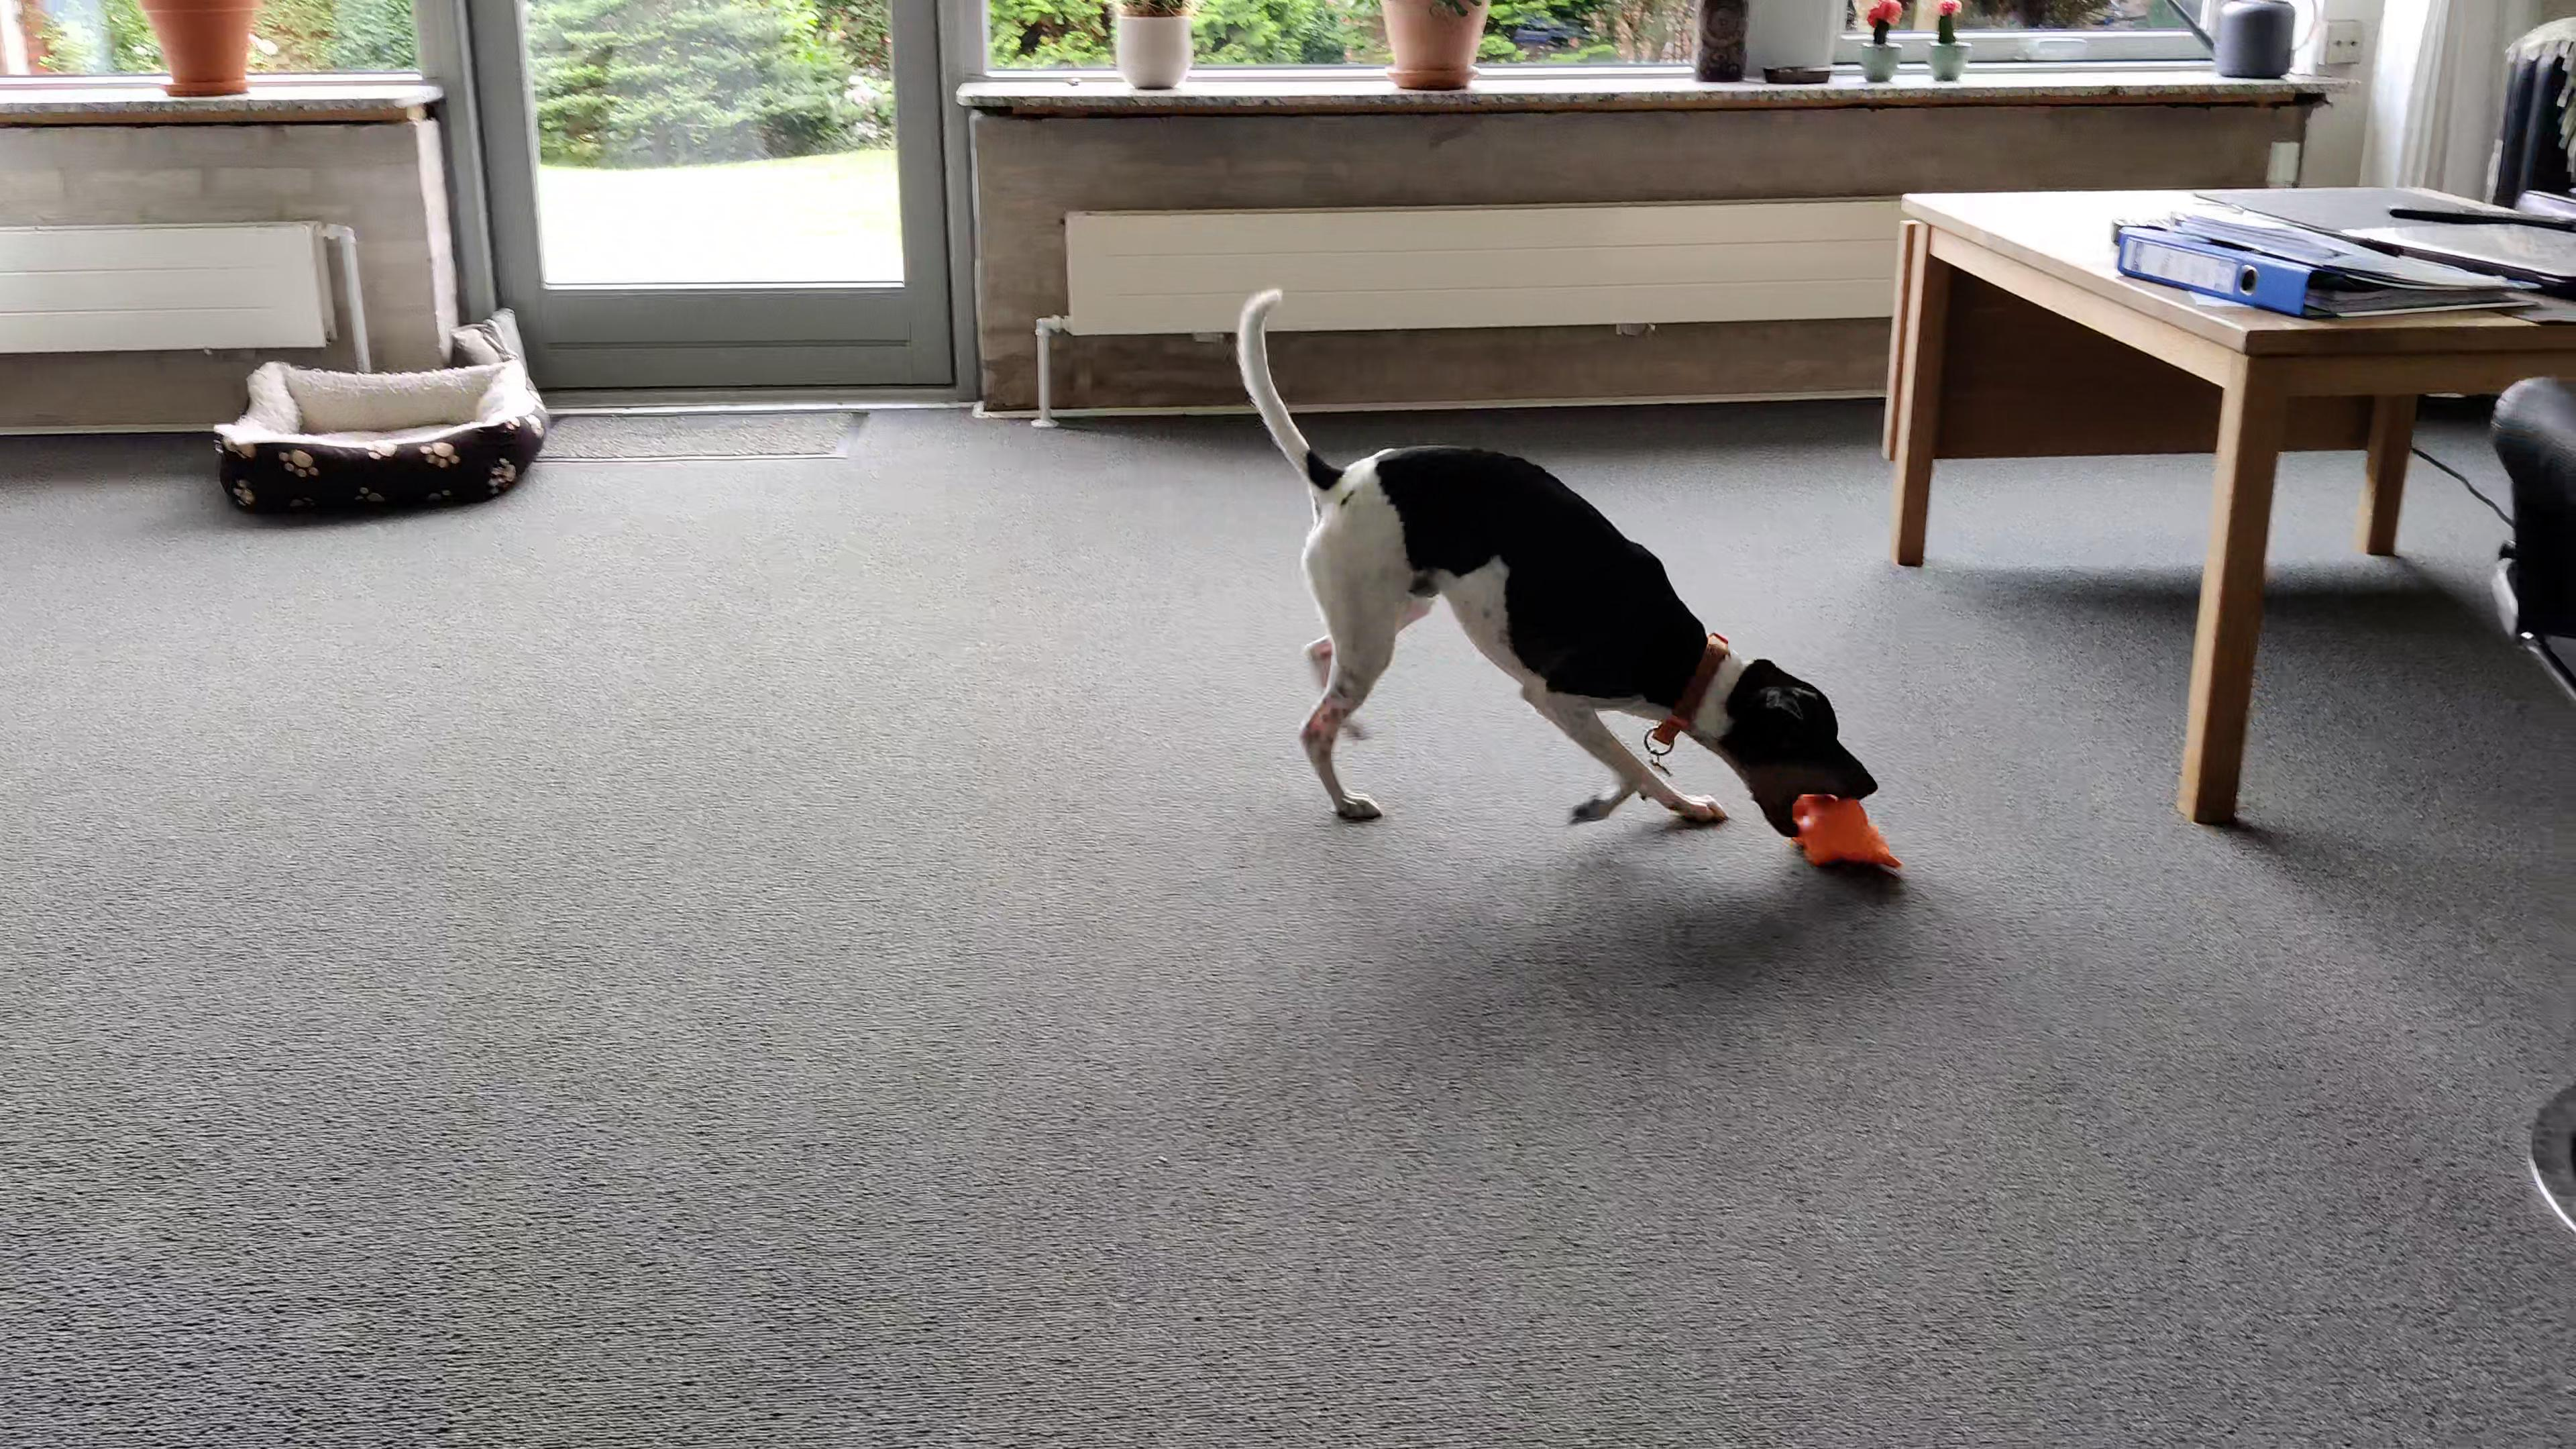Dog: (1233, 283, 1881, 840)
